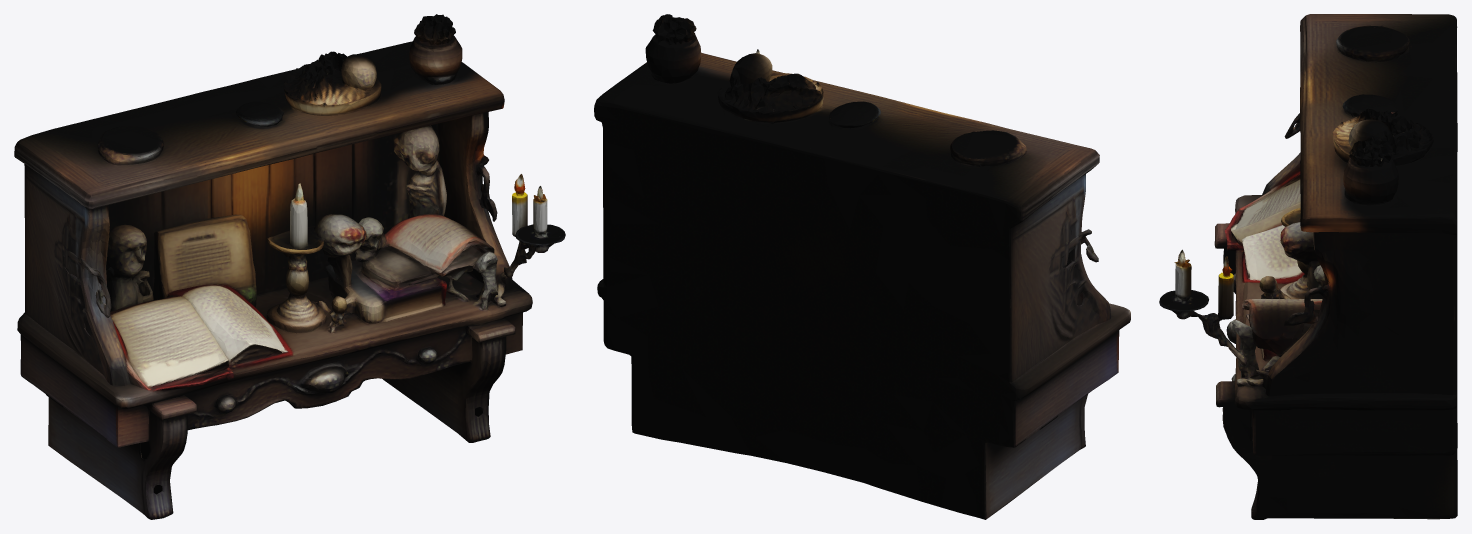
File: wooden-shelf-horror.jpeg.glb
3 renders of one model, left to right at view 1: azimuth 30°, elevation 25°; view 2: azimuth 150°, elevation 25°; view 3: azimuth 270°, elevation 25°, orthographic. The views are drawn at different scales.
Parts seen in each view (by area): view 1: world; view 2: world; view 3: world.
Boxes of the visible parts, x1,y1,x2,y2 form: world: (14, 14, 565, 519); world: (594, 14, 1130, 519); world: (1159, 14, 1457, 519).
Size of the model in its own units: 1 by 0.8615 by 0.6107.
1 material, 1 textured.
